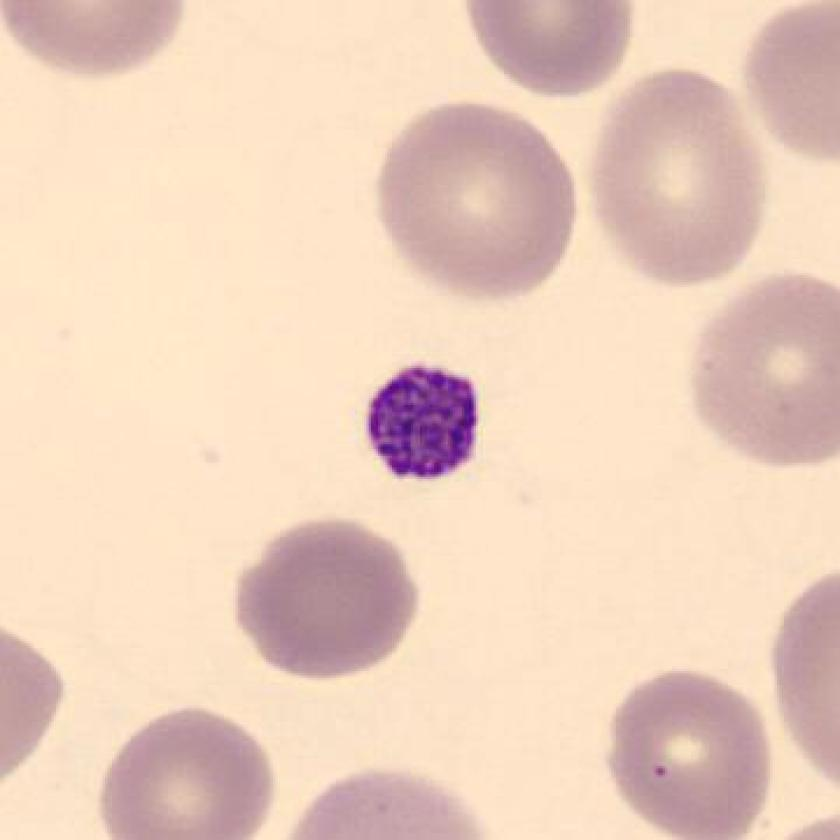platelets: (356, 353, 496, 496)
